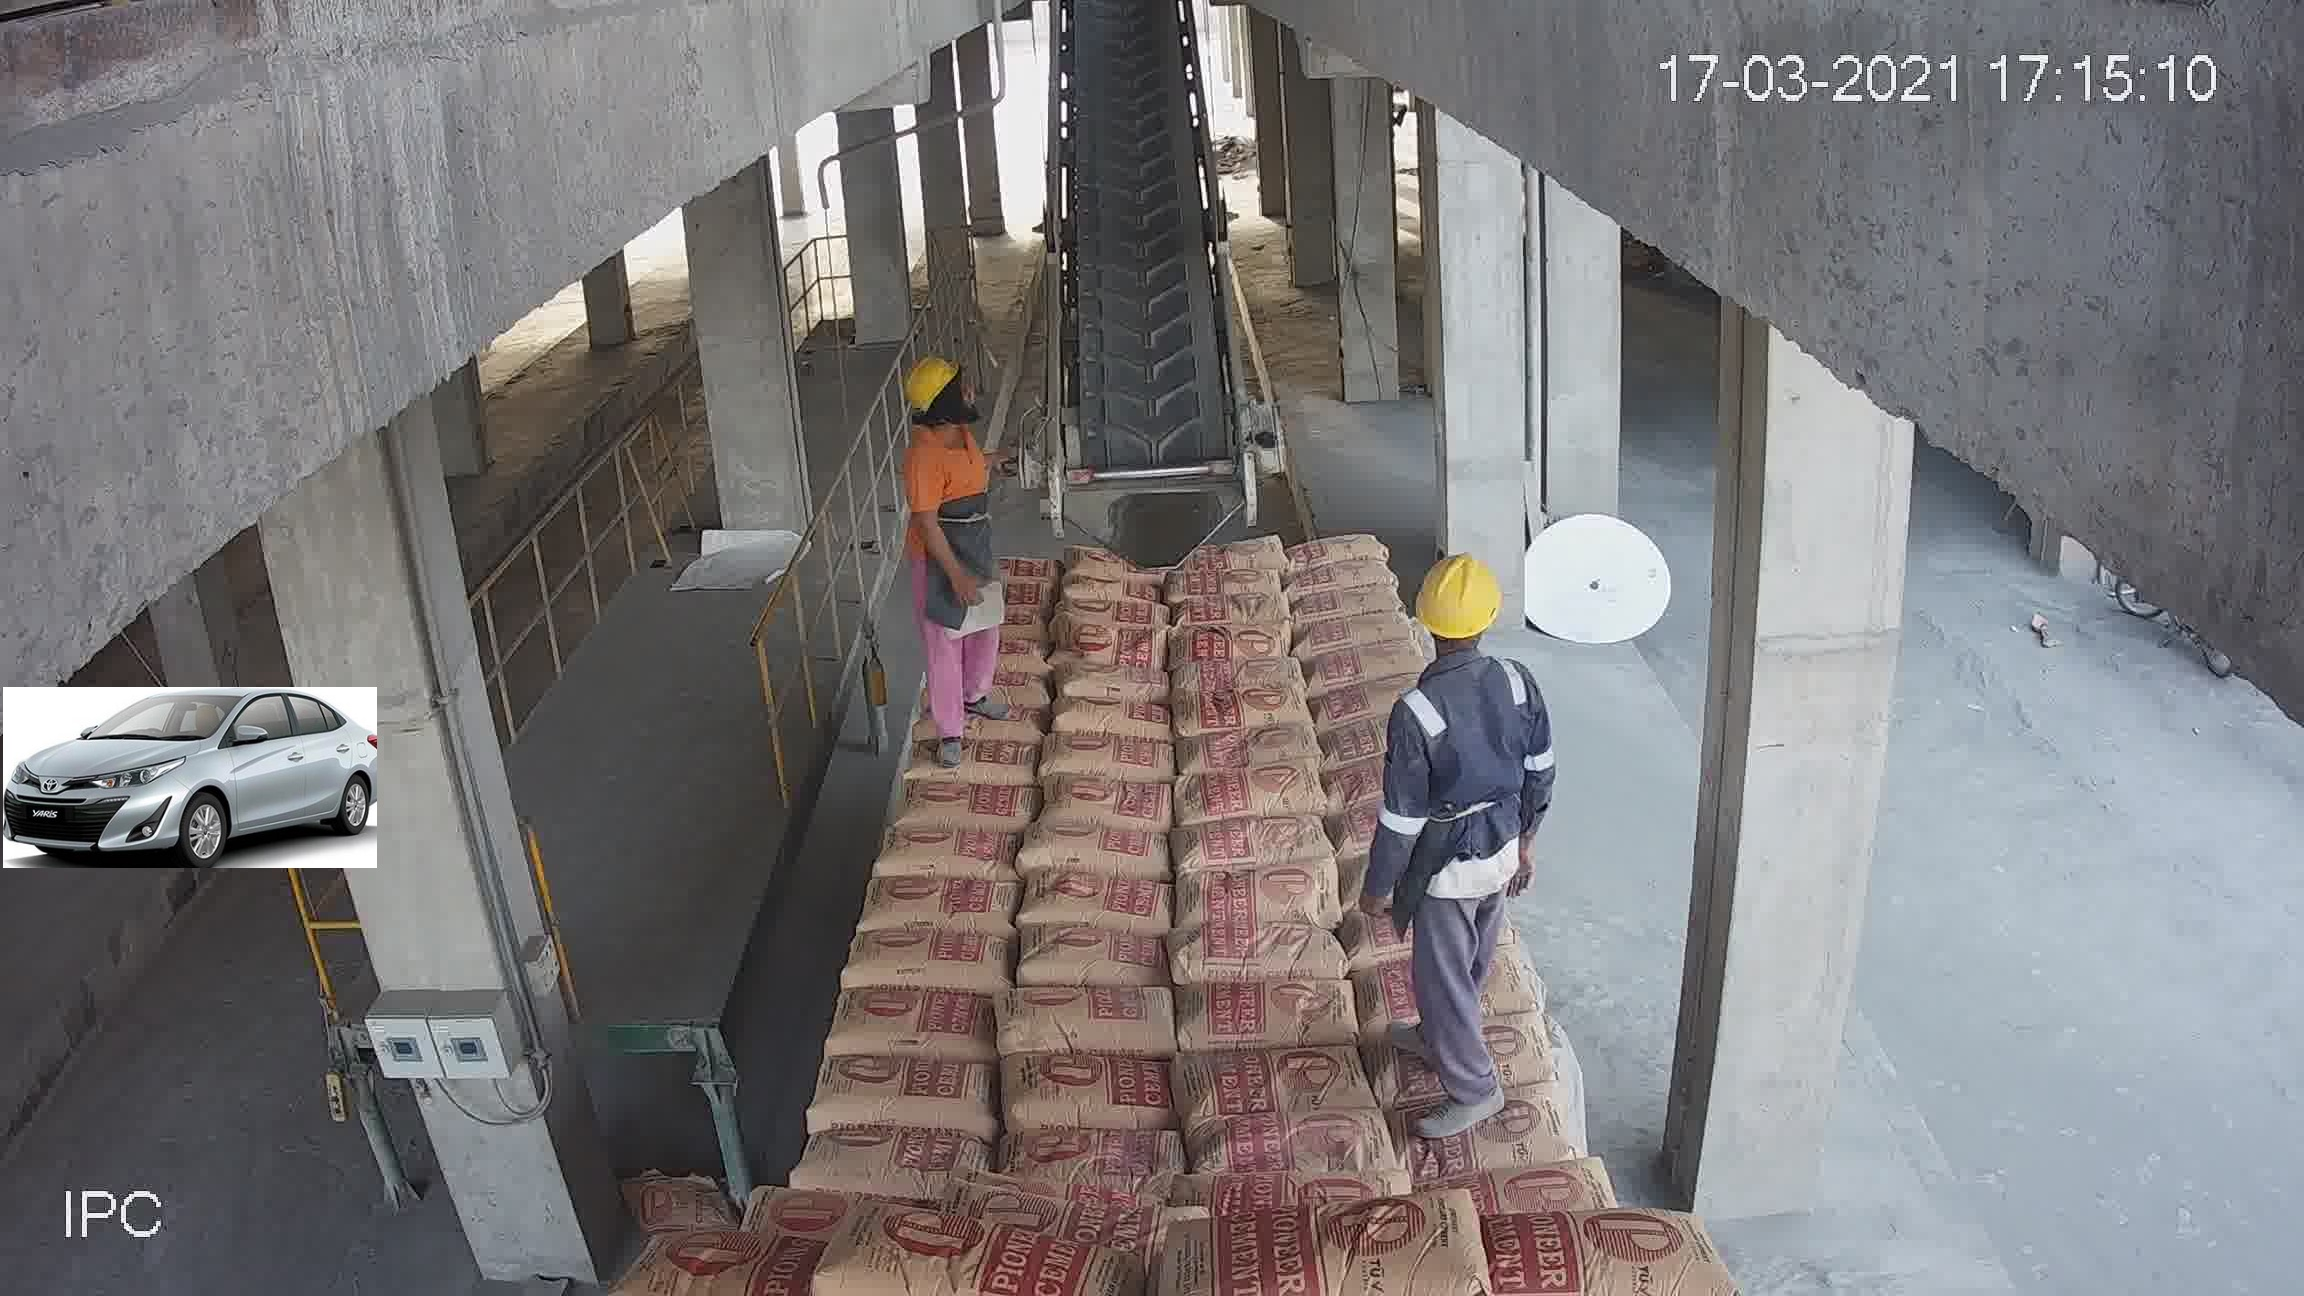bag_h: (1203, 1207, 1502, 1294), (807, 1218, 1122, 1294), (1442, 1209, 1701, 1291), (801, 1054, 1011, 1138), (1393, 1086, 1578, 1180), (1190, 1044, 1367, 1131), (1203, 1109, 1394, 1188), (1006, 1048, 1187, 1128), (636, 1226, 845, 1296), (1173, 976, 1364, 1052), (1002, 987, 1188, 1063), (828, 980, 1005, 1059), (853, 870, 1029, 946), (788, 1127, 1000, 1188), (834, 926, 1017, 995), (999, 1122, 1190, 1188), (1177, 926, 1355, 992), (1177, 862, 1337, 934), (1176, 809, 1336, 878), (1435, 1160, 1606, 1222), (1180, 756, 1329, 824), (1022, 817, 1166, 886), (1014, 934, 1176, 992), (1024, 873, 1182, 932), (1044, 772, 1184, 836), (896, 780, 1043, 836), (926, 736, 1068, 791), (872, 831, 1019, 883), (1166, 655, 1312, 706), (935, 731, 1082, 780), (1179, 687, 1315, 734), (1305, 628, 1418, 685), (1185, 725, 1318, 772), (1051, 739, 1177, 786), (1060, 657, 1176, 707), (1067, 611, 1166, 669), (1169, 619, 1294, 663), (1301, 609, 1402, 661), (1052, 699, 1163, 745), (1060, 554, 1171, 598), (1302, 674, 1408, 720), (1169, 590, 1294, 627), (1180, 527, 1310, 562), (1290, 557, 1399, 597), (1287, 524, 1391, 565), (1301, 582, 1400, 623), (1059, 598, 1176, 633), (1169, 567, 1282, 601), (1055, 573, 1166, 606)
belt: (1036, 21, 1244, 508)
